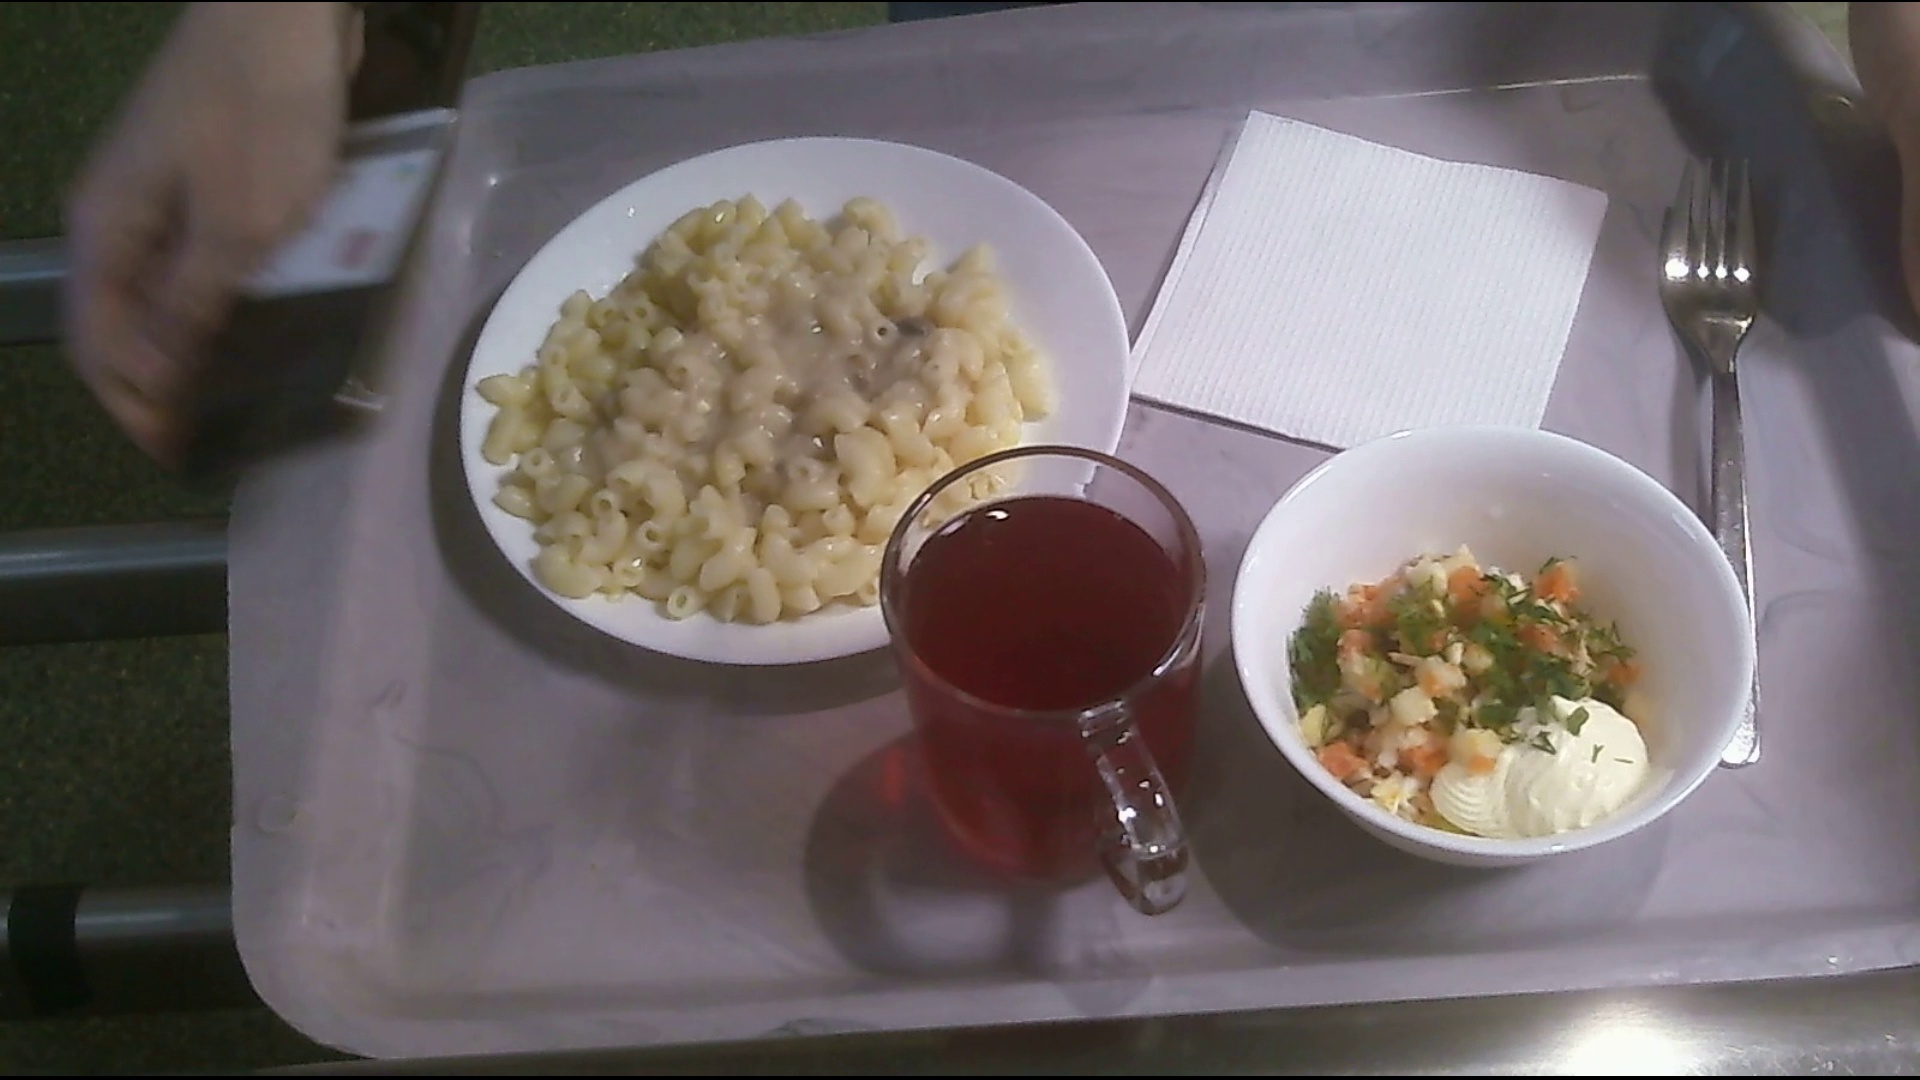bowl: (1234, 426, 1753, 862)
cutlery: (1665, 162, 1778, 764)
drink: (895, 444, 1207, 924)
plate: (469, 119, 1137, 665)
